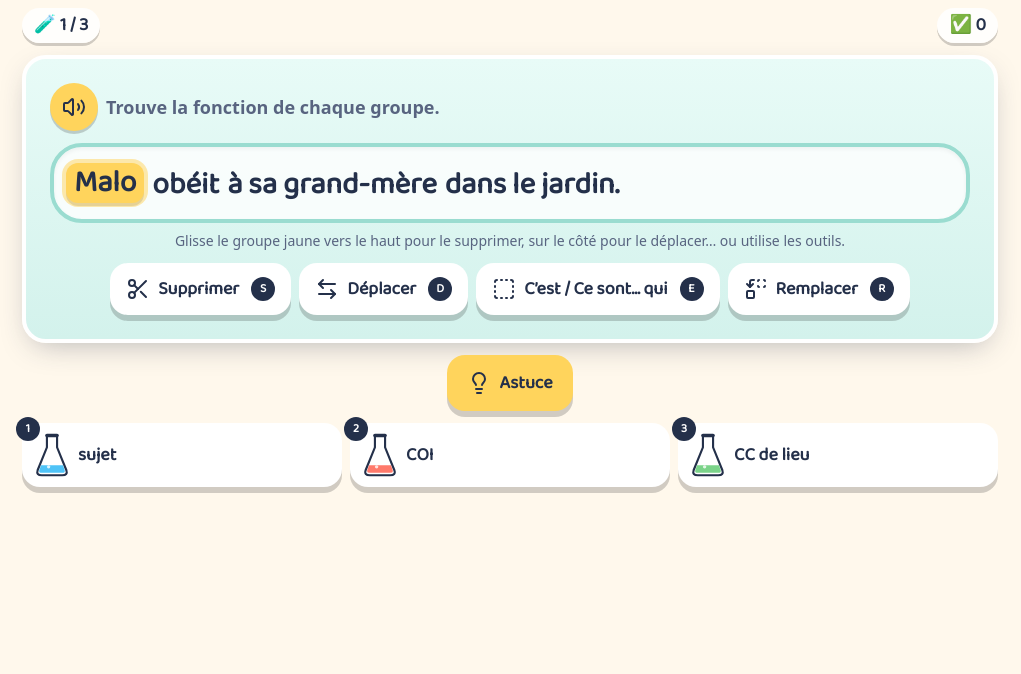
Test: jeux de langue (composants) › Labo des fonctions : encadrer le sujet, puis le verser dans la bonne fiole
Expected: the text "🧪 1 / 3" is shown, [22,8,100,43]
Click the button "C’est / Ce sont… qui E".
click(598, 289)  # box [476,263,720,315]
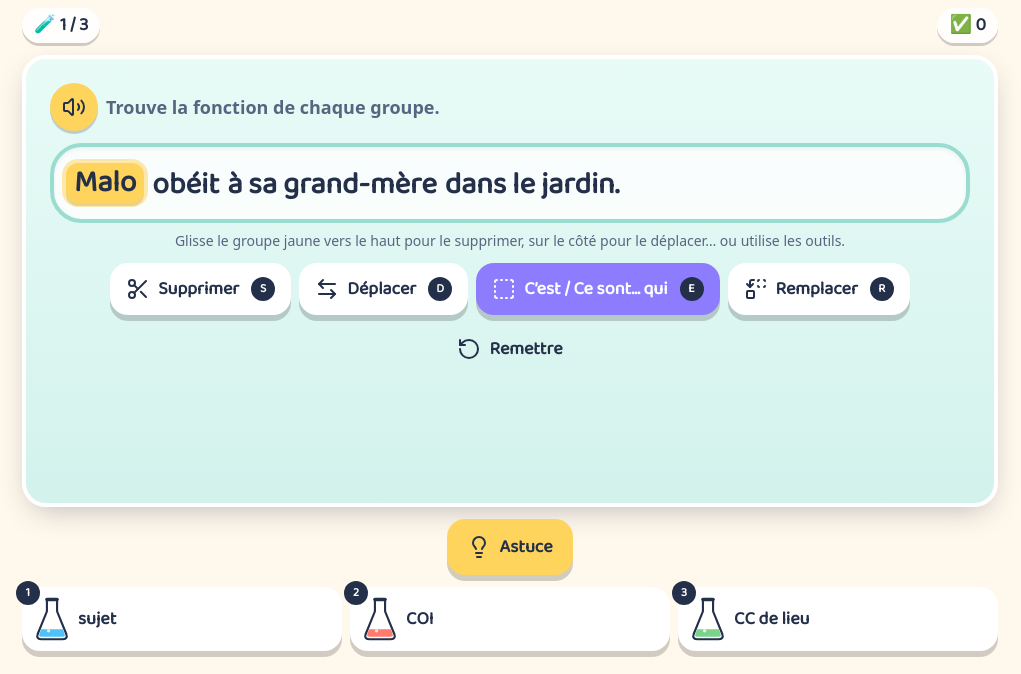
Click the button with aria-label "Fiole 1 : sujet".
click(52, 619)  # box [22,587,342,651]
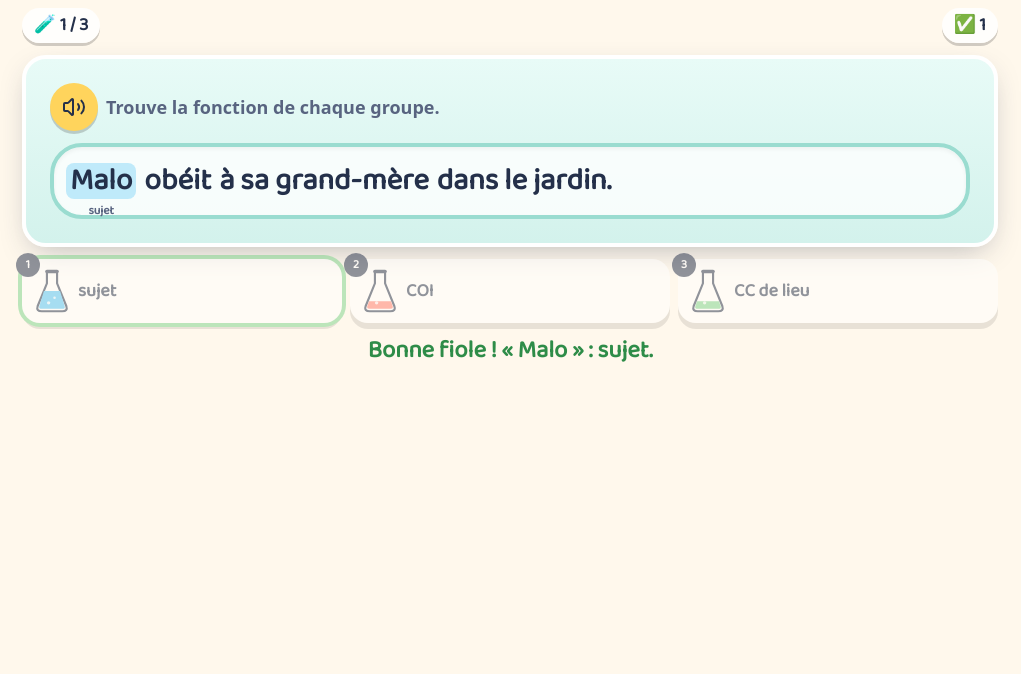
Expected: the text "Bonne fiole ! « Malo » : sujet." is shown, [368,335,652,367]
